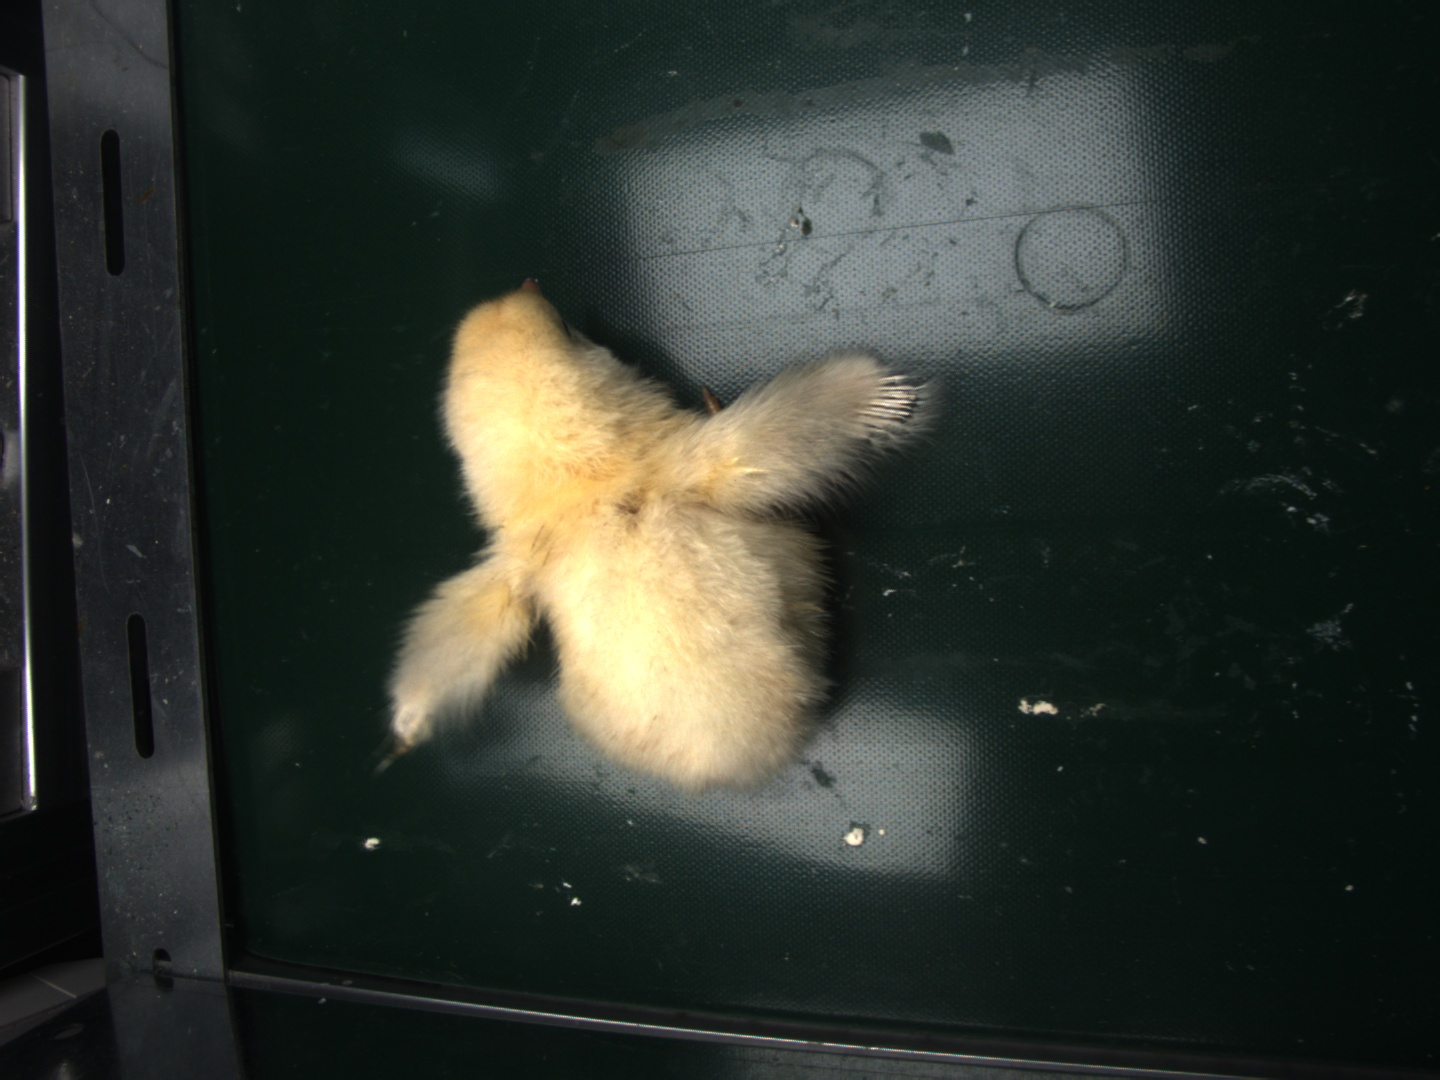male: (861, 365, 920, 438)
